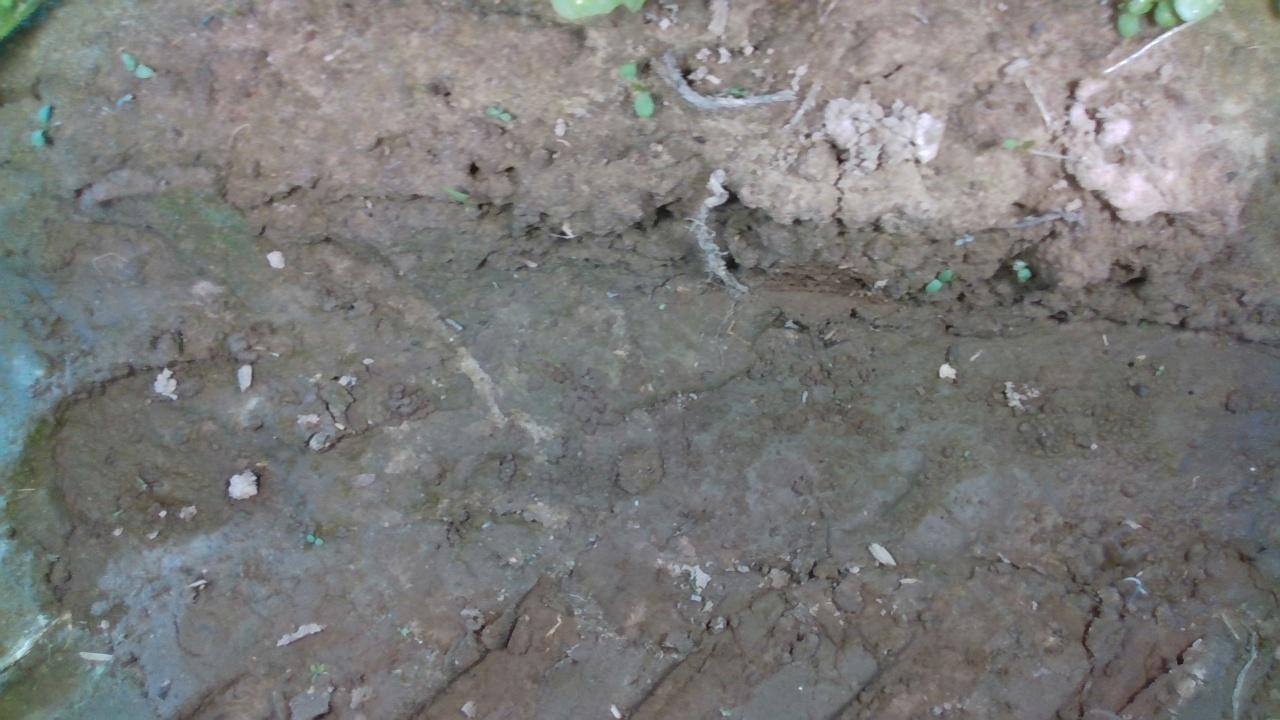weed: (617, 61, 656, 119), (27, 101, 52, 149), (117, 51, 156, 79), (922, 266, 952, 295), (480, 104, 511, 123), (1010, 258, 1031, 283)
